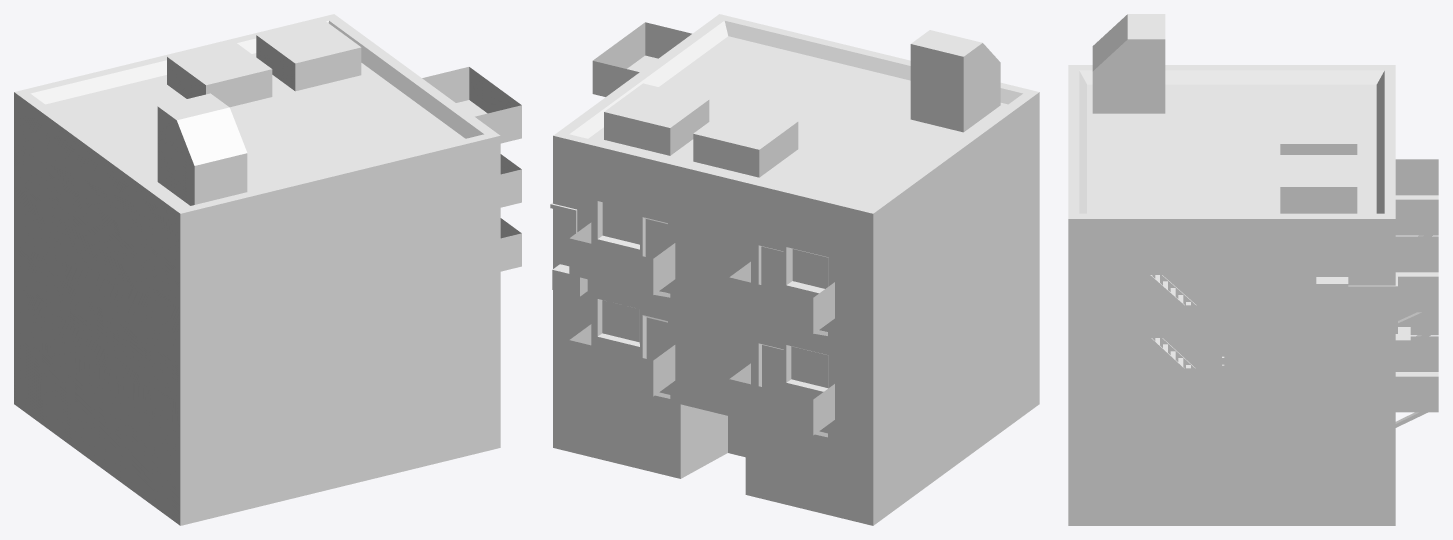
File: Apartment_Complex.fbx
The picture shows the model from 3 angles, left to right: view 1: azimuth 30°, elevation 25°; view 2: azimuth 150°, elevation 25°; view 3: azimuth 270°, elevation 25°; orthographic projection.
Visible parts, largest first — view 1: Apartment_Complex; view 2: Apartment_Complex; view 3: Apartment_Complex.
Boxes of the visible parts, x1=… form: Apartment_Complex: x1=14, y1=14, x2=521, y2=525; Apartment_Complex: x1=550, y1=14, x2=1039, y2=525; Apartment_Complex: x1=1068, y1=14, x2=1438, y2=525.
Size of the model in its own units: 1149 by 1126 by 1019.
1 material, 1 textured.
